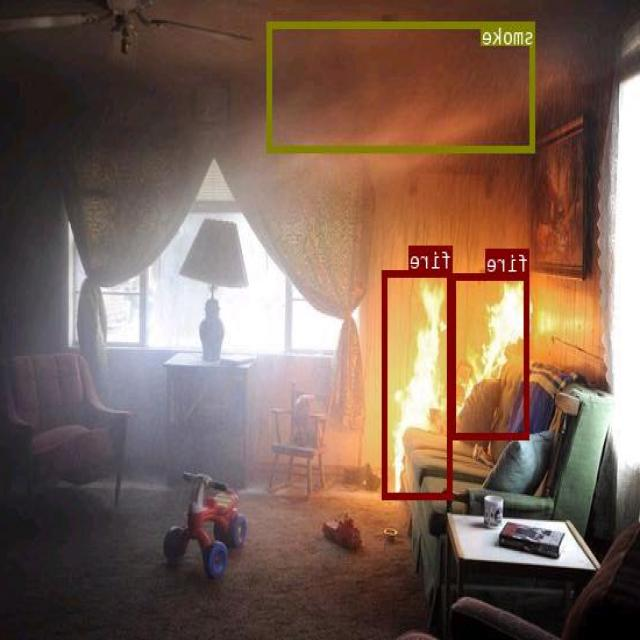fire: (384, 268, 454, 498), (452, 273, 530, 438)
smoke: (268, 22, 536, 152)
